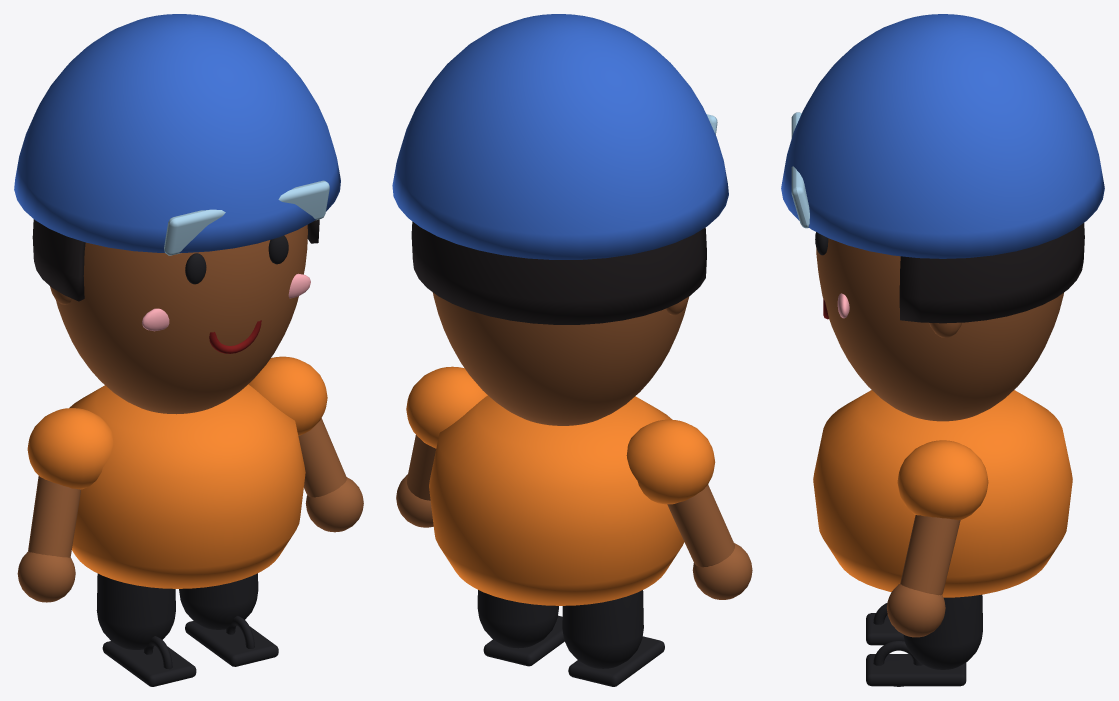
Rendered from worker_rider.glb.
3 renders of one model, left to right at view 1: azimuth 30°, elevation 25°; view 2: azimuth 150°, elevation 25°; view 3: azimuth 270°, elevation 25°, orthographic. The views are drawn at different scales.
Parts seen in each view (by area): view 1: Helmet, Torso, HeadSkin, Sleeve-1, Leg-1, Sleeve1, Hair, UpperArmR, Leg1, Visor, UpperArmL, HandR (+5 smaller); view 2: Helmet, Torso, HeadSkin, Hair, Sleeve-1, Leg-1, Sleeve1, UpperArmR, Leg1, HandR, Shoe-1, Shoe1 (+2 smaller); view 3: Helmet, Torso, HeadSkin, Hair, Sleeve1, Leg1, UpperArmL, Shoe1, HandL, Visor, Shoe-1, Strap1.
Part boxes in pixels (bbox=[...]): Helmet: bbox=[14, 14, 340, 252]; Torso: bbox=[69, 384, 305, 588]; HeadSkin: bbox=[56, 225, 307, 414]; Sleeve-1: bbox=[27, 408, 113, 489]; Leg-1: bbox=[96, 573, 175, 649]; Sleeve1: bbox=[248, 356, 327, 435]; Hair: bbox=[32, 219, 319, 301]; UpperArmR: bbox=[28, 476, 80, 557]; Leg1: bbox=[179, 573, 258, 629]; Visor: bbox=[164, 180, 329, 255]; UpperArmL: bbox=[298, 418, 346, 497]; HandR: bbox=[17, 551, 75, 602]; Helmet: bbox=[392, 14, 728, 259]; Torso: bbox=[429, 395, 684, 605]; HeadSkin: bbox=[432, 292, 686, 425]; Hair: bbox=[411, 221, 706, 324]; Sleeve-1: bbox=[626, 419, 715, 504]; Leg-1: bbox=[562, 590, 643, 668]; Sleeve1: bbox=[406, 366, 487, 448]; UpperArmR: bbox=[667, 484, 734, 567]; Leg1: bbox=[477, 590, 558, 648]; HandR: bbox=[692, 543, 752, 599]; Shoe-1: bbox=[568, 636, 664, 686]; Shoe1: bbox=[483, 615, 564, 666]; Helmet: bbox=[781, 14, 1104, 258]; Torso: bbox=[813, 390, 1072, 597]; HeadSkin: bbox=[816, 238, 1063, 421]; Hair: bbox=[899, 223, 1084, 323]; Sleeve1: bbox=[897, 440, 988, 520]; Leg1: bbox=[903, 594, 982, 669]; UpperArmL: bbox=[900, 515, 960, 595]; Shoe1: bbox=[866, 654, 966, 686]; HandL: bbox=[886, 584, 945, 637]; Visor: bbox=[791, 112, 809, 228]; Shoe-1: bbox=[866, 613, 904, 645]; Strap1: bbox=[873, 641, 922, 686].
Bounding box in the file's own units: 0.7104 × 1.26 × 0.5805.
